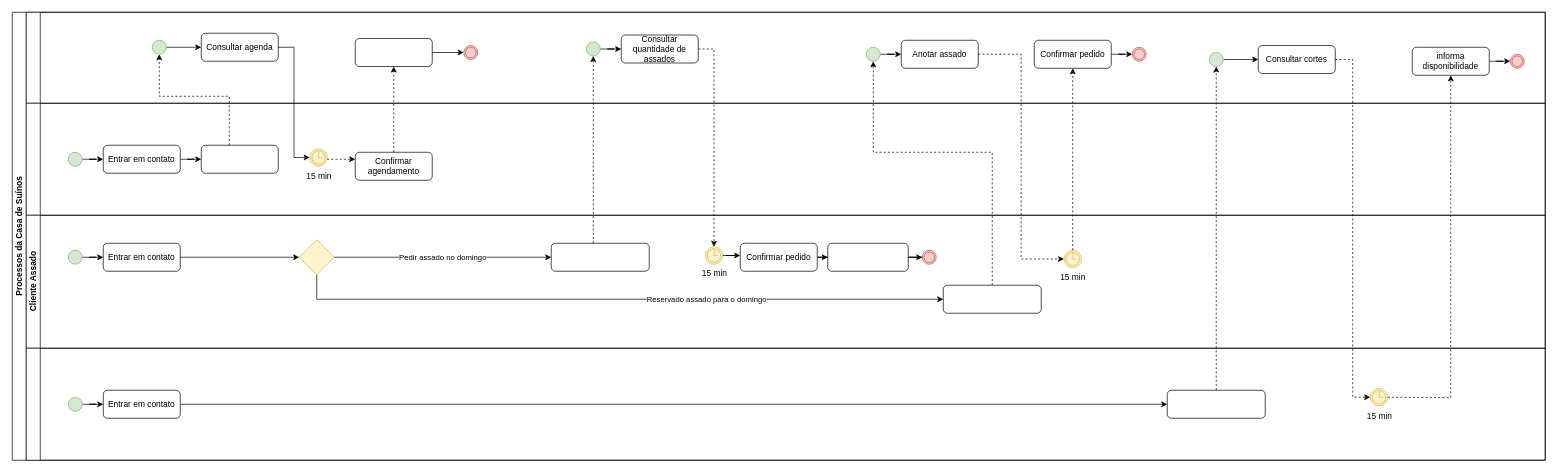
Image size: 1558x473. Some labels were removed from this diagram. Here are the shapes that lost their labels. From the top down, the box of each, then its label:
(355, 38, 432, 66): Marcar agenda
(26, 12, 1545, 103): Funcionário
(201, 145, 278, 173): Verificar disponibilidade de eventos
(26, 103, 1545, 215): Cliente Evento
(551, 243, 649, 271): Verificar disponibilidade de assados restantes
(827, 243, 908, 271): Pagar assado
(943, 285, 1041, 313): Reservar assado
(26, 348, 1545, 460): Cliente Consulta
(1167, 390, 1265, 418): Consultar cortes disponíveis
